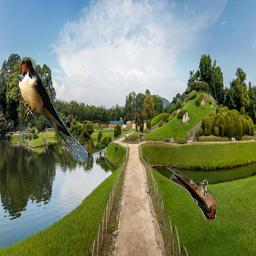Swallow: (20, 58, 89, 163), (166, 168, 217, 221)
